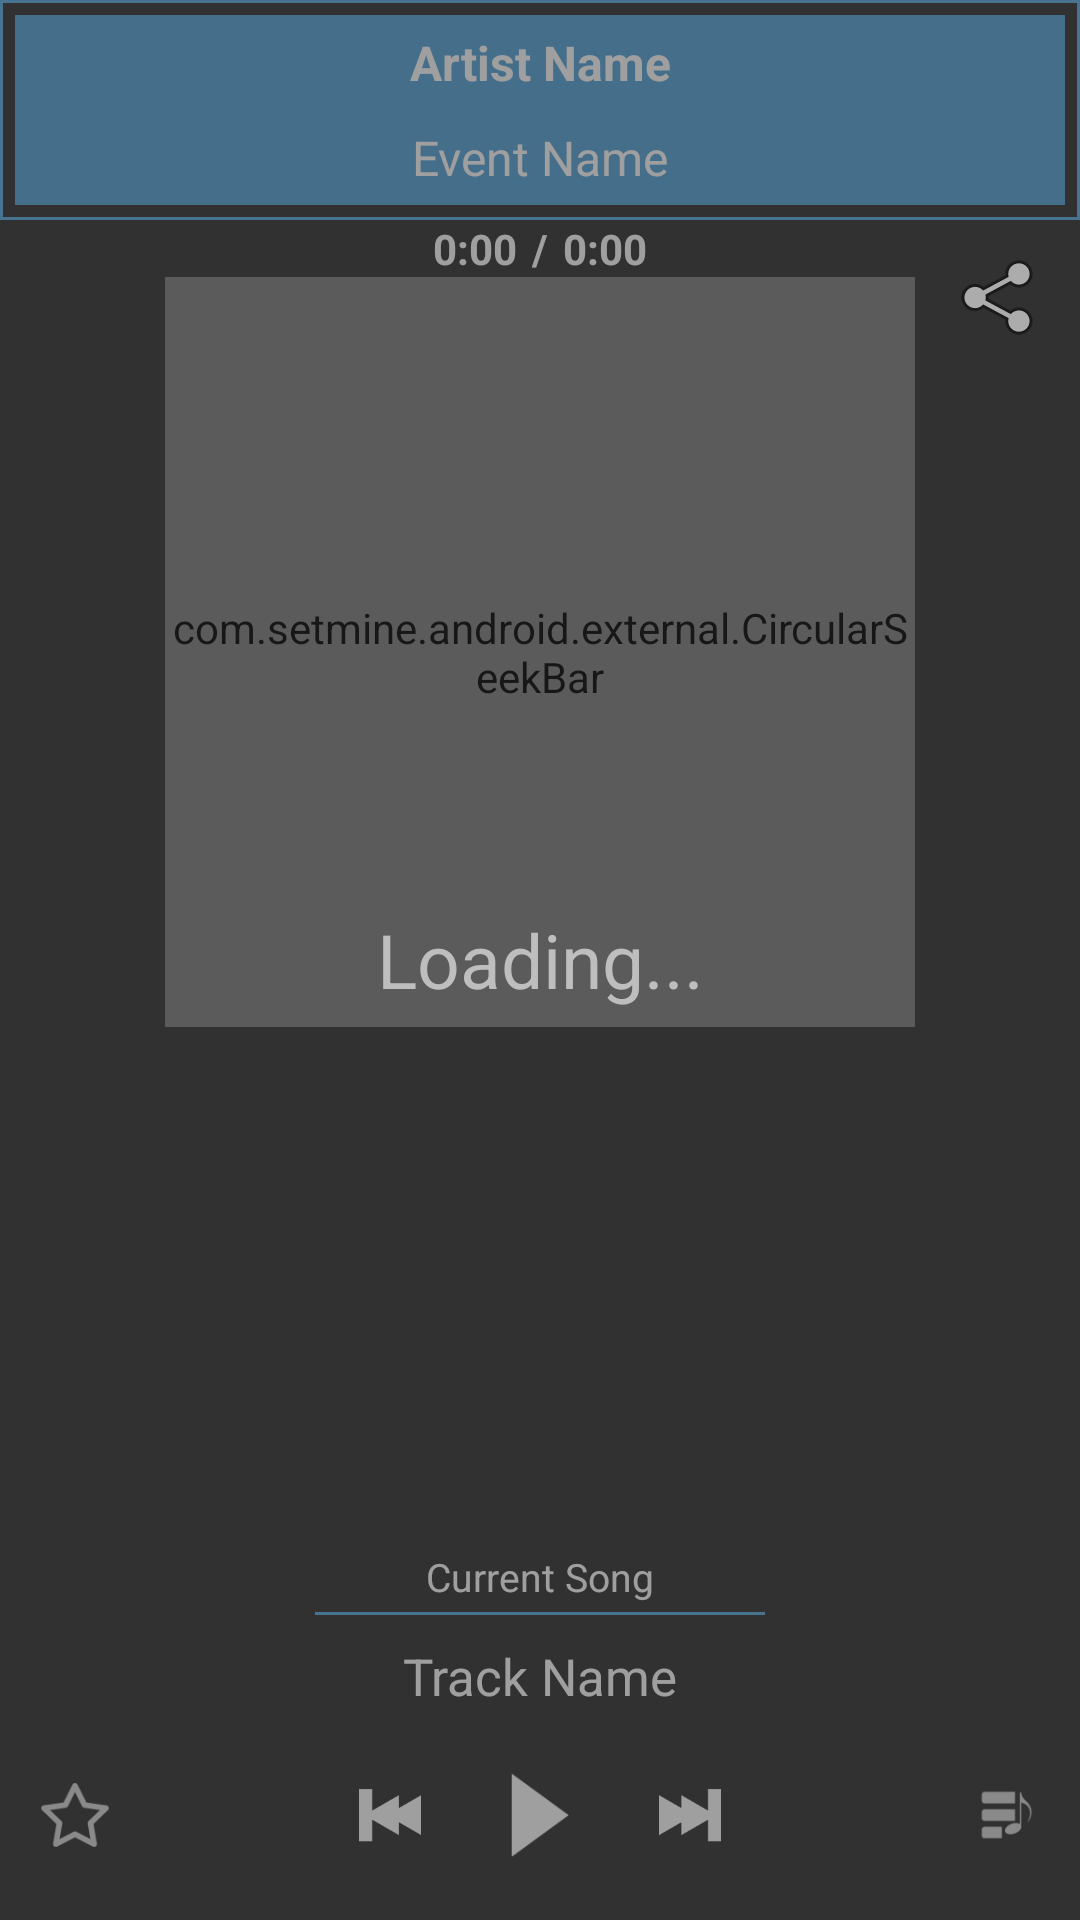

Icon bounding boxes for this 1080*1920 phone screenshot, format (x1, y1, x2, y2):
fast forward: (659, 1789, 721, 1842)
favorite: (41, 1783, 109, 1847)
play: (511, 1774, 569, 1856)
rewind: (359, 1789, 421, 1842)
share: (963, 262, 1031, 333)
tracklist: (981, 1791, 1032, 1839)
